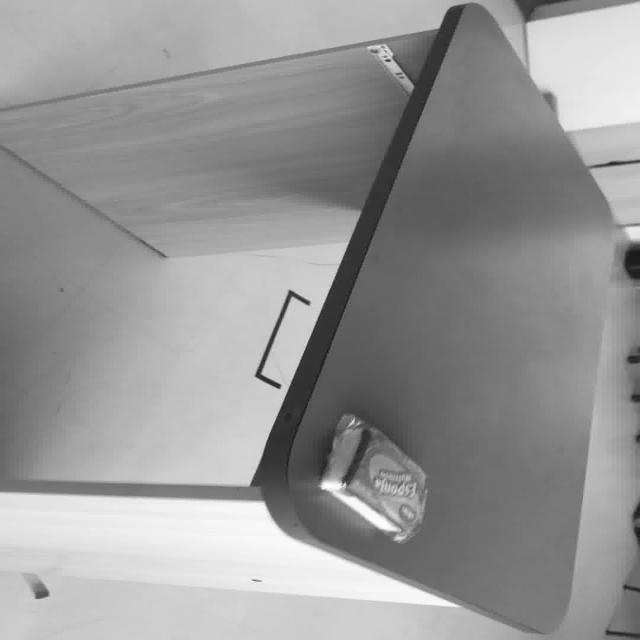sponge: (316, 412, 428, 544)
